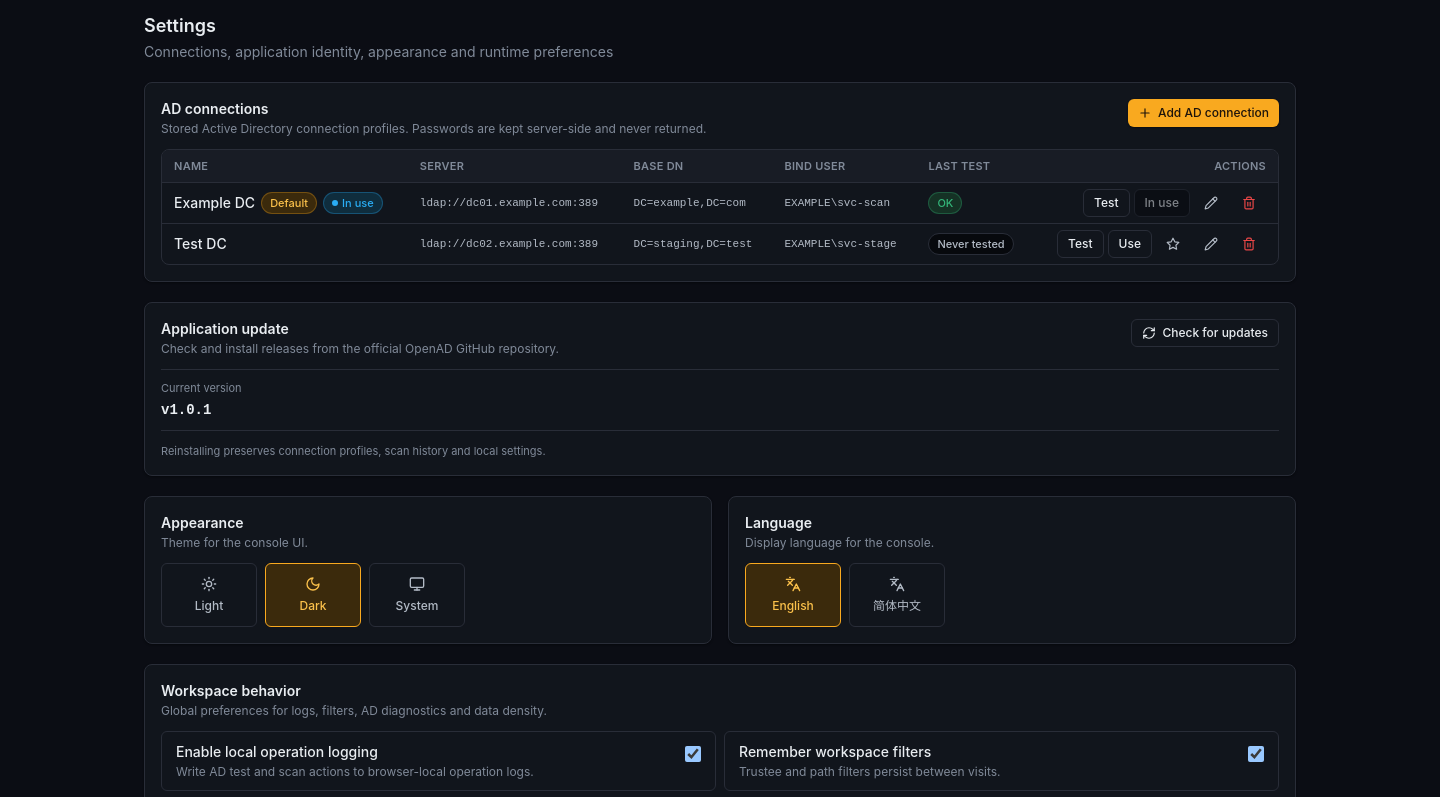
SettingsPage › shows a local API message when deleting an AD connection cannot reach the backend
Click the button titled "Delete" in the row of "Example DC" at {"x": 1249, "y": 202}, box [1232,188,1266,216]
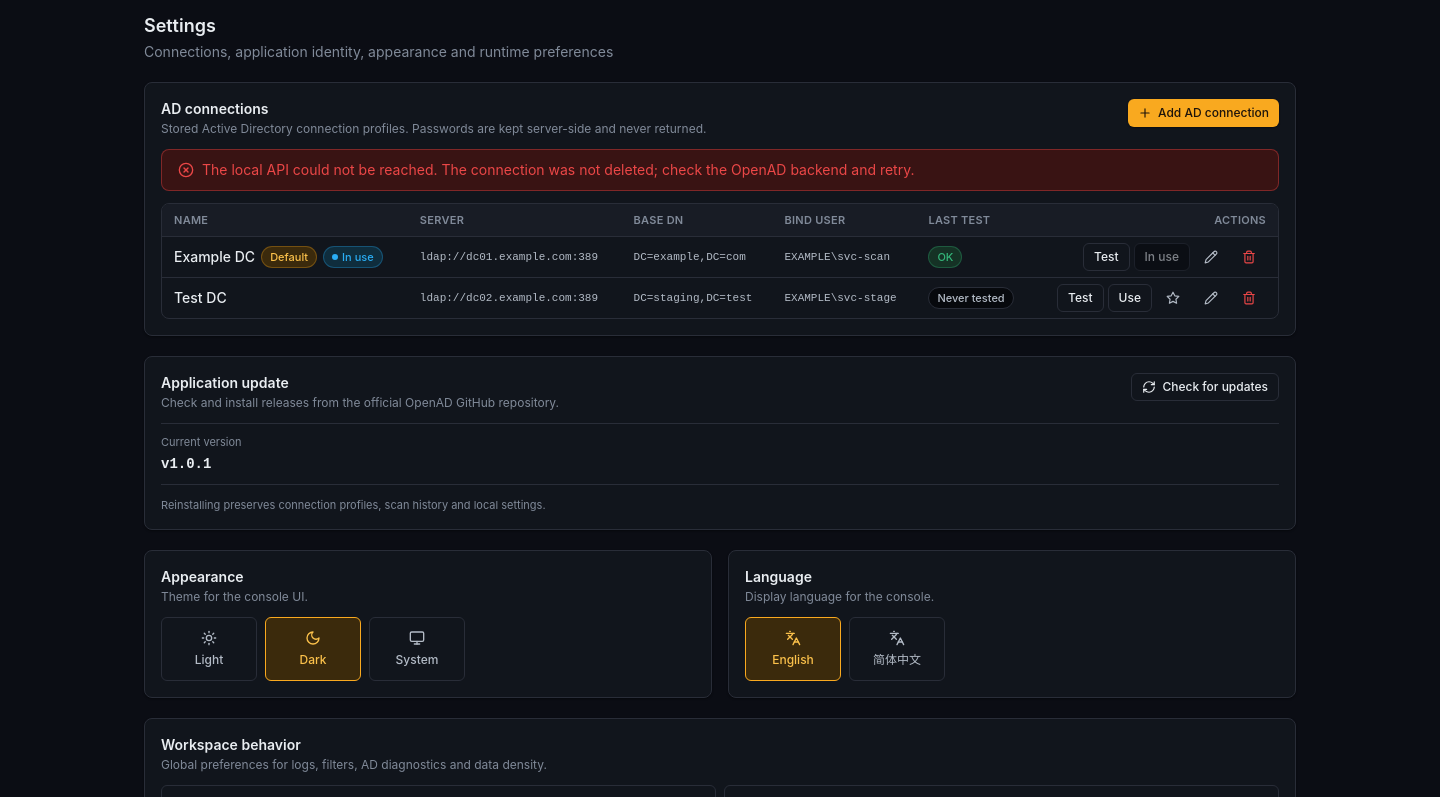
Result: the text "The local API could not be reached. The connection was not deleted; check the OpenAD backend and retry." is shown at [202,161,914,178]
